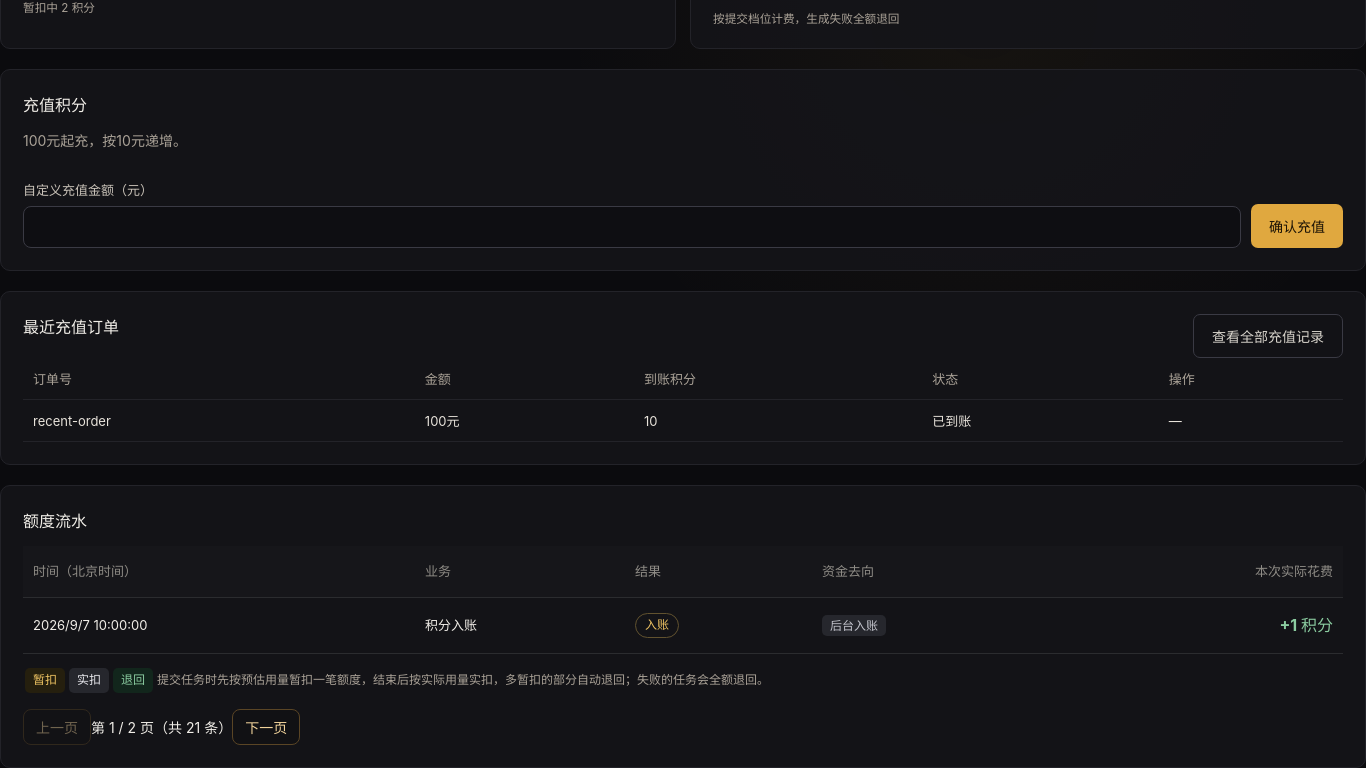
Scenario: CustomerWalletPanel › pages through the complete customer ledger and recharge order history
(page scrolled)
Expected: the element "额度流水" is shown, [0,485,1365,767]
Expected: the text "2026/9/7 10:00:00" is shown, [23,597,415,654]
Click the button "下一页". click: (266, 727)
box: [232,709,300,745]
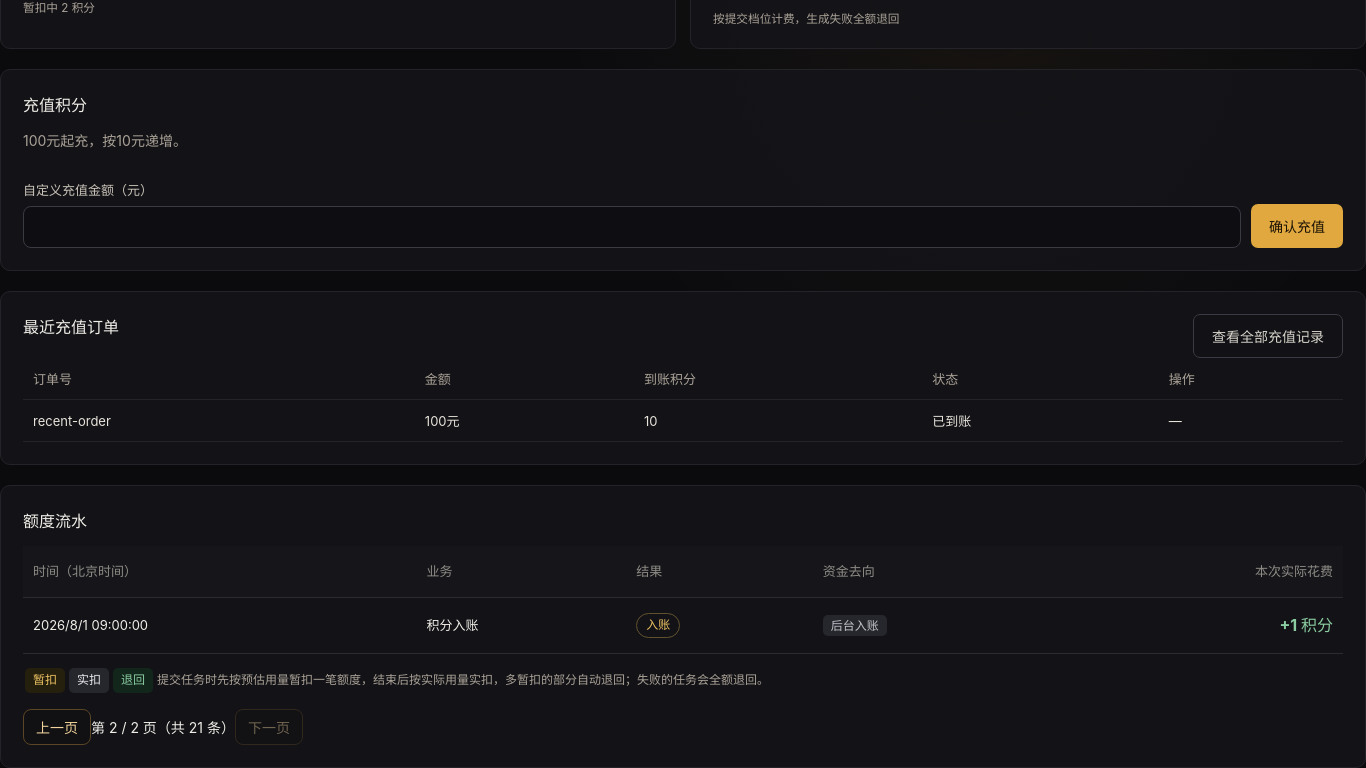
Expected: the text "2026/8/1 09:00:00" is shown, [23,597,416,654]
Click the button "查看全部充值记录". click: (1268, 336)
box: [1193,314,1343,358]
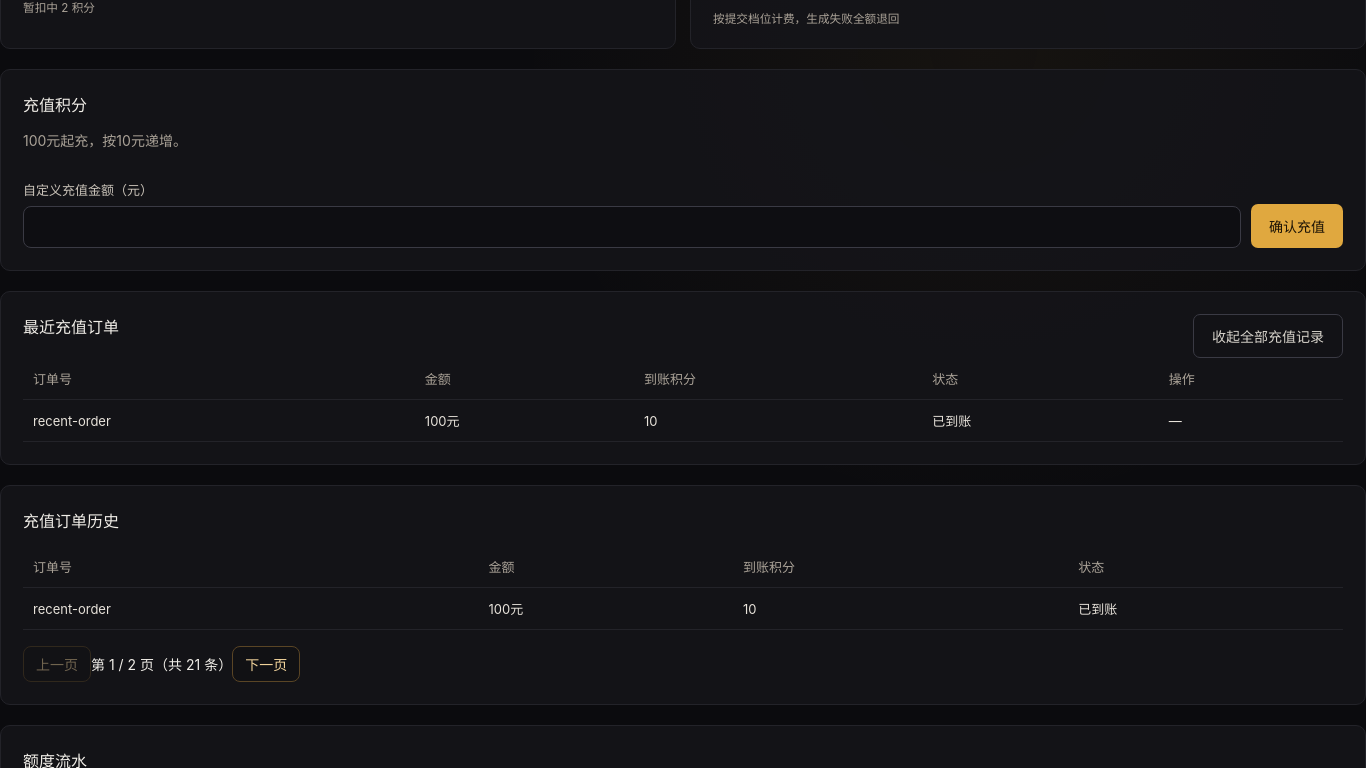
Expected: the element "充值订单历史" is shown, [0,485,1365,705]
Expected: the text "recent-order" below "充值订单历史" is shown, [33,600,111,616]
Click the button "下一页". click: (266, 664)
box: [232,646,300,682]
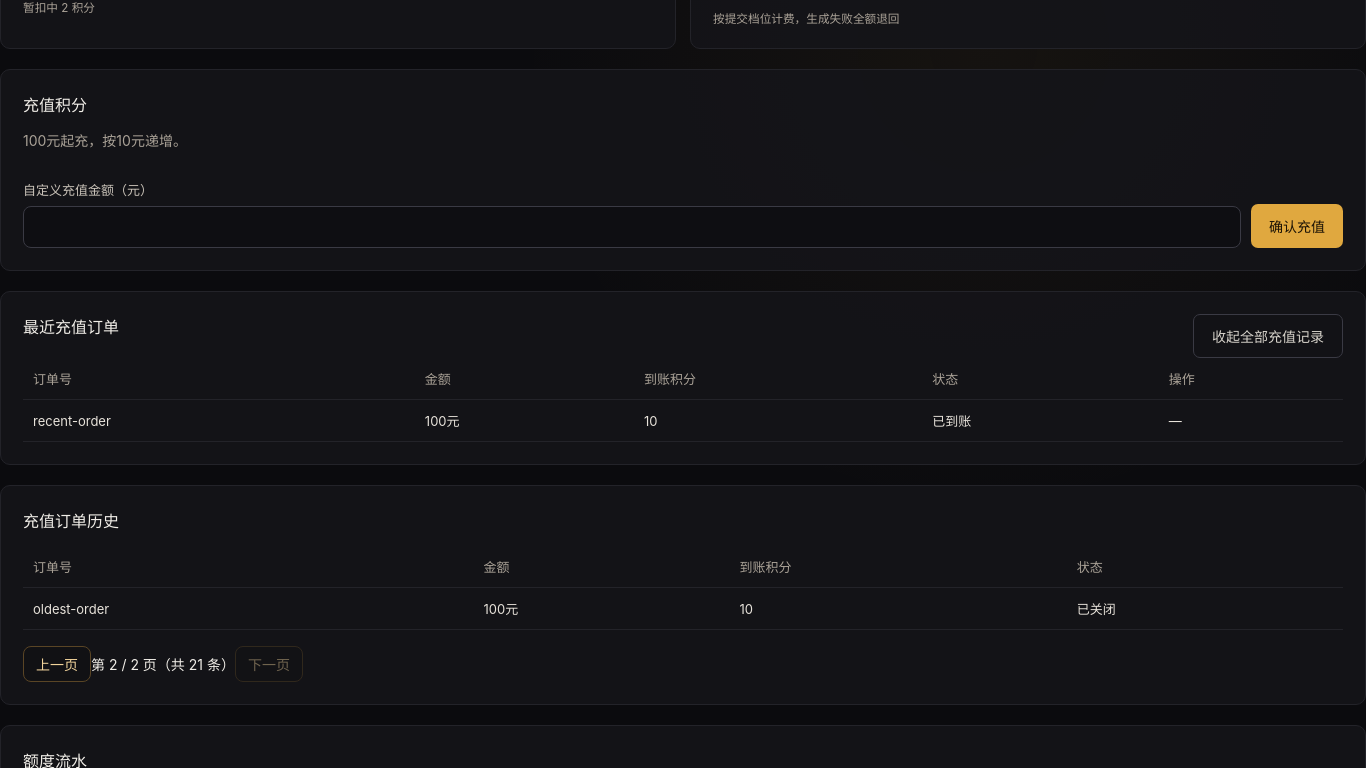
Expected: the text "oldest-order" is shown, [23,588,474,630]
